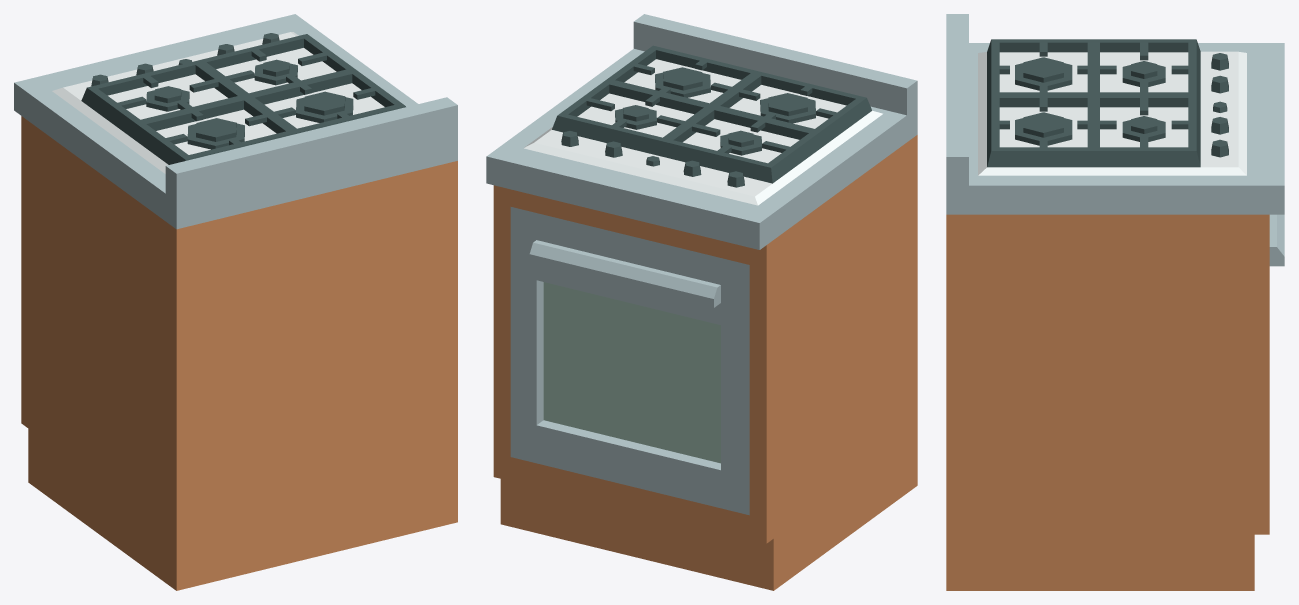
File: kitchen-stove-cooktop.glb
3 renders of one model, left to right at view 1: azimuth 30°, elevation 25°; view 2: azimuth 150°, elevation 25°; view 3: azimuth 270°, elevation 25°, orthographic. The views are drawn at different scales.
Parts seen in each view (by area): view 1: kitchenStove; view 2: kitchenStove, door; view 3: kitchenStove, door.
Boxes of the visible parts, x1,y1,x2,y2 form: kitchenStove: [14, 14, 457, 590]; kitchenStove: [486, 14, 917, 590]; door: [510, 207, 749, 515]; kitchenStove: [946, 14, 1284, 590]; door: [1269, 214, 1284, 266].
Bounding box in the file's own units: 0.6 × 0.85 × 0.6.
